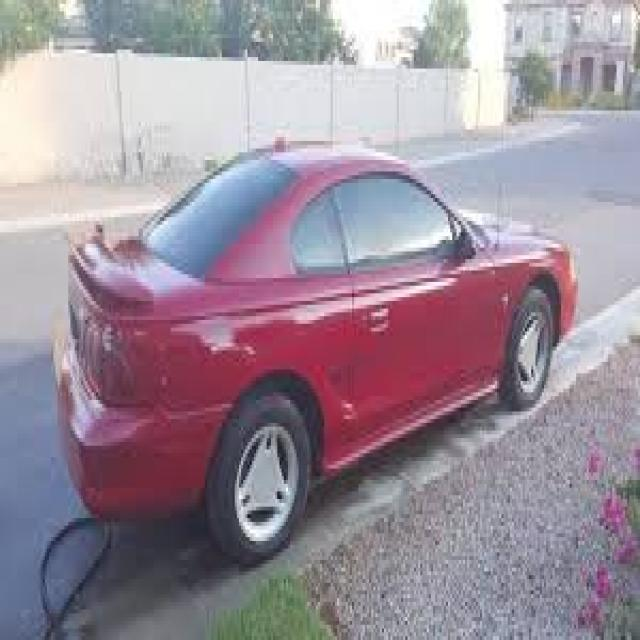minor: (116, 264, 309, 374)
